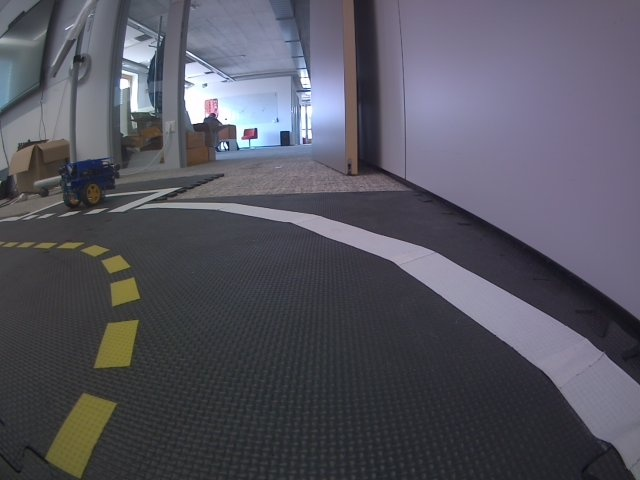Bot: (58, 155, 117, 209)
occupiedSlot: (16, 187, 179, 222)
